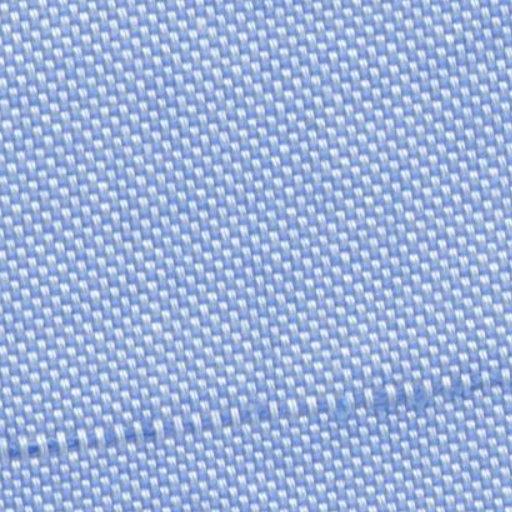DaiSha: (9, 362, 504, 472)
